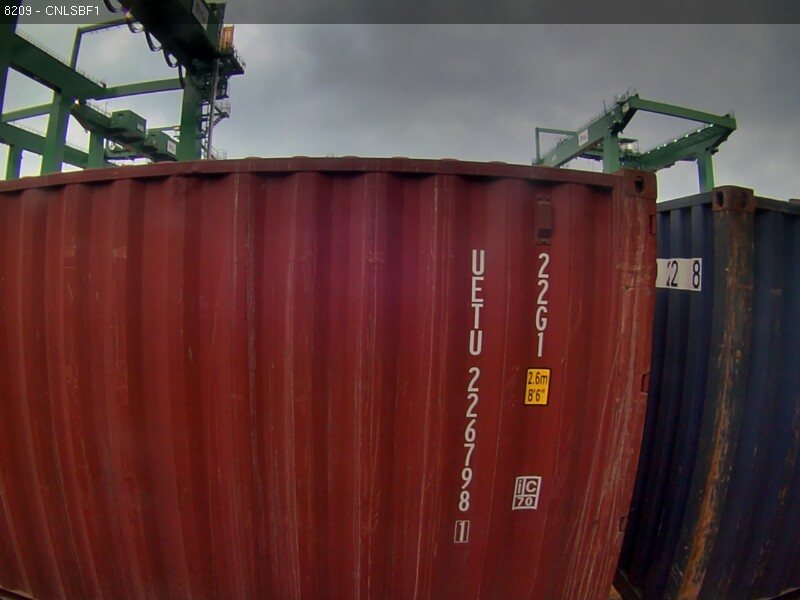container_no_door: (164, 155, 670, 599)
